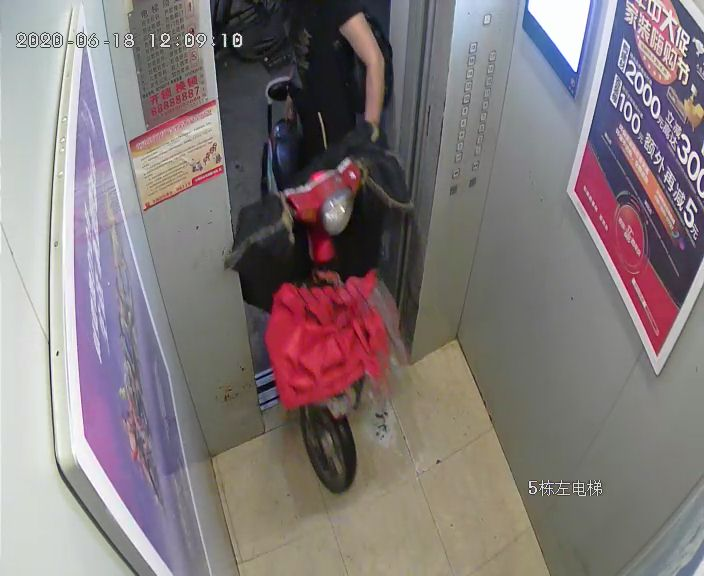Electric-bicycle: (226, 77, 375, 487)
